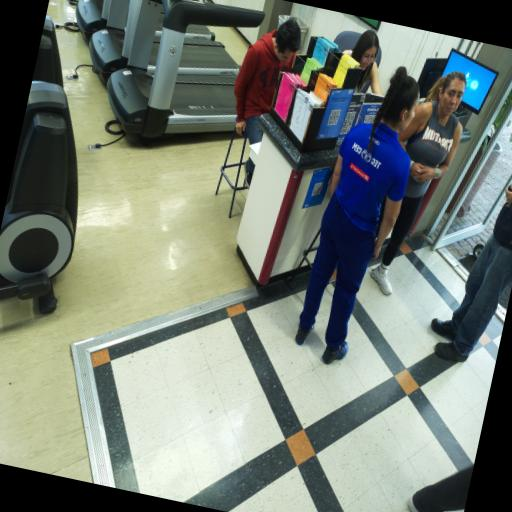person: (295, 67, 418, 363), (370, 72, 465, 294), (430, 183, 511, 362), (233, 17, 300, 144), (407, 466, 473, 511), (343, 30, 381, 95)
